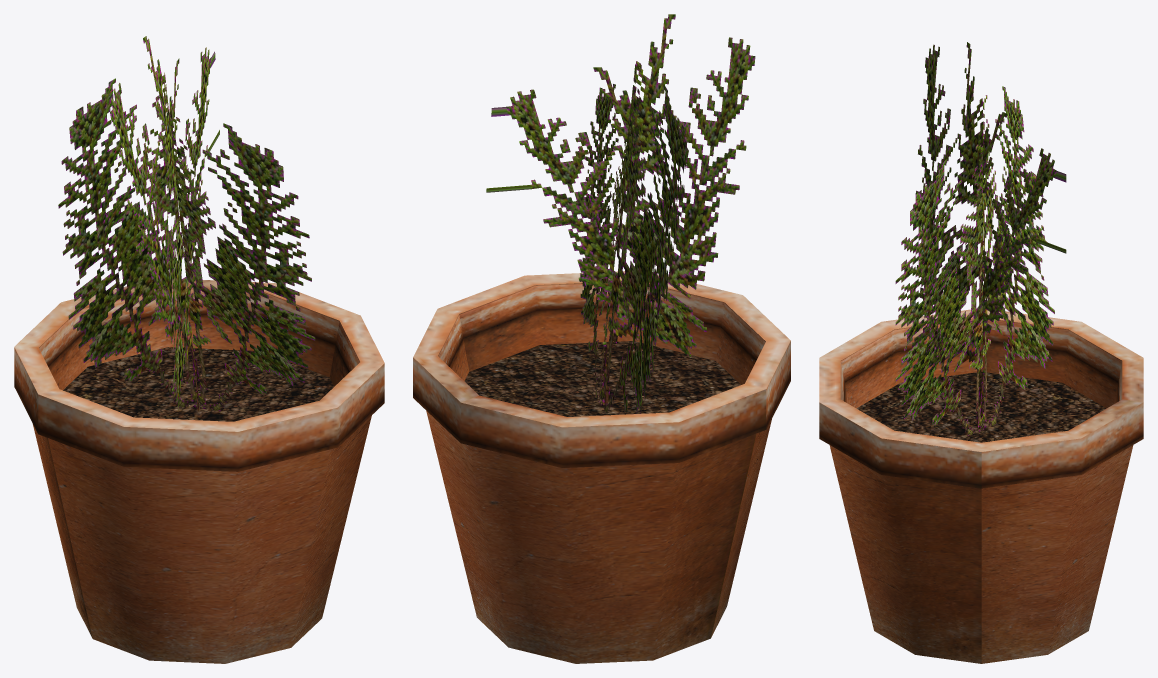
Rendered from mm9_deco_pottedplant2.glb.
3 views of the same model, side by side, from view 1: azimuth 30°, elevation 25°; view 2: azimuth 150°, elevation 25°; view 3: azimuth 270°, elevation 25° (orthographic). The views are drawn at different scales.
Visible parts, largest first — view 1: Pottedplant2; view 2: Pottedplant2; view 3: Pottedplant2.
Boxes of the visible parts, box(x1,y1,x2,y2) form: Pottedplant2: box(14, 36, 384, 663); Pottedplant2: box(413, 14, 790, 663); Pottedplant2: box(819, 42, 1143, 663).
Bounding box in the file's own units: 0.2191 × 0.387 × 0.2084.
Materials: 1 (1 with a texture image).
